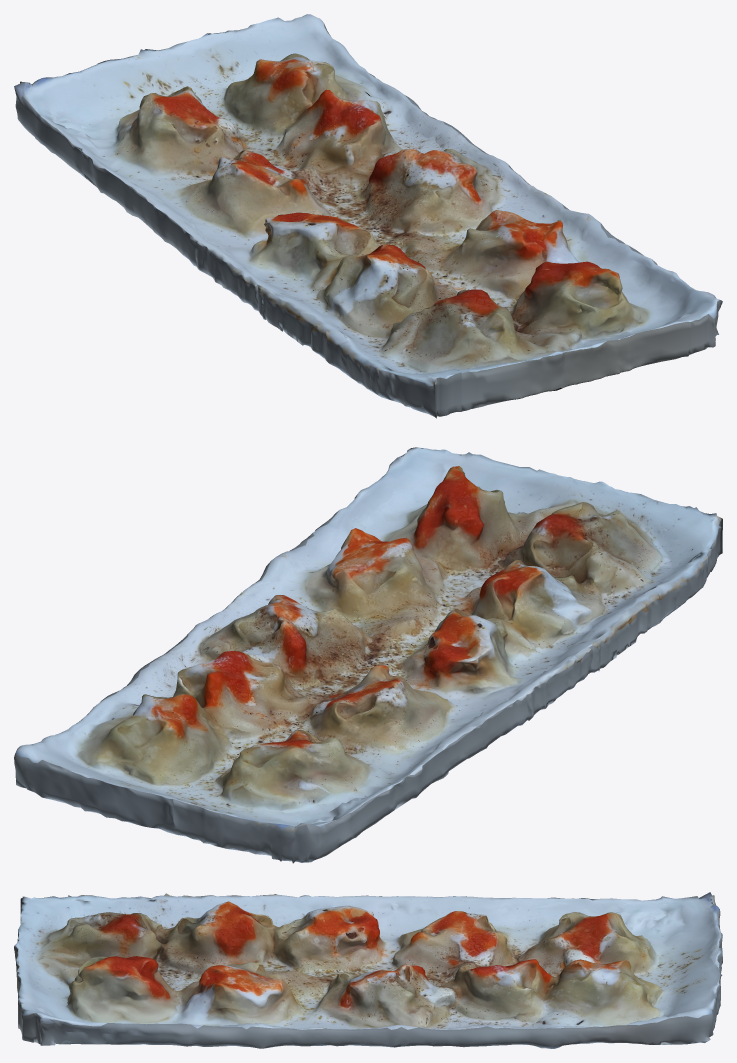
File: manti.glb
3 renders of one model, top to bottom at view 1: azimuth 30°, elevation 25°; view 2: azimuth 150°, elevation 25°; view 3: azimuth 270°, elevation 25°, orthographic. The views are drawn at different scales.
Parts seen in each view (by area): view 1: mantiv1; view 2: mantiv1; view 3: mantiv1.
Boxes of the visible parts, x1,y1,x2,y2 form: mantiv1: (14,14,722,418); mantiv1: (14,447,722,863); mantiv1: (14,892,722,1048).
Size of the model in its own units: 0.2294 by 0.0444 by 0.5091.
2 materials, 2 textured.
